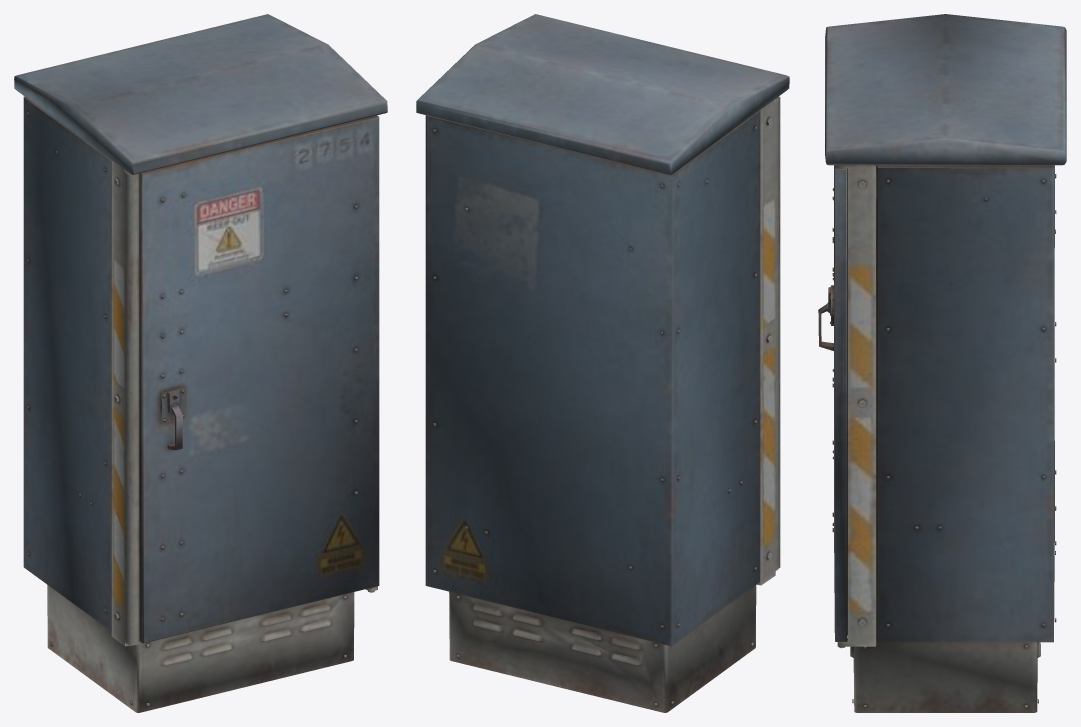
The model's file is utility_box_01.glb.
3 views of the same model, side by side, from view 1: azimuth 30°, elevation 25°; view 2: azimuth 150°, elevation 25°; view 3: azimuth 270°, elevation 25° (orthographic).
Visible parts, largest first — view 1: utility_box_01_box; view 2: utility_box_01_box; view 3: utility_box_01_box.
Part boxes in pixels (bbox=[...]): utility_box_01_box: bbox=[14, 14, 387, 712]; utility_box_01_box: bbox=[416, 14, 789, 712]; utility_box_01_box: bbox=[818, 14, 1066, 712].
Size of the model in its own units: 0.5182 by 1.12 by 0.4312.
1 material, 1 textured.
